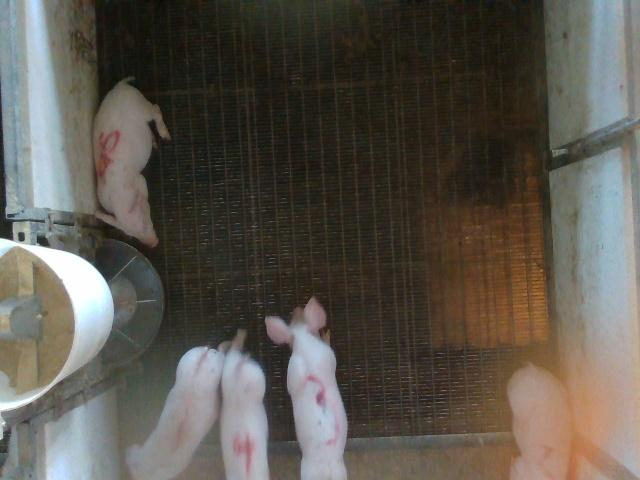pig-1: (126, 346, 225, 479)
pig-2: (508, 364, 570, 478)
pig-3: (266, 298, 348, 478)
pig-4: (220, 330, 269, 479)
pig-5: (94, 78, 170, 246)
